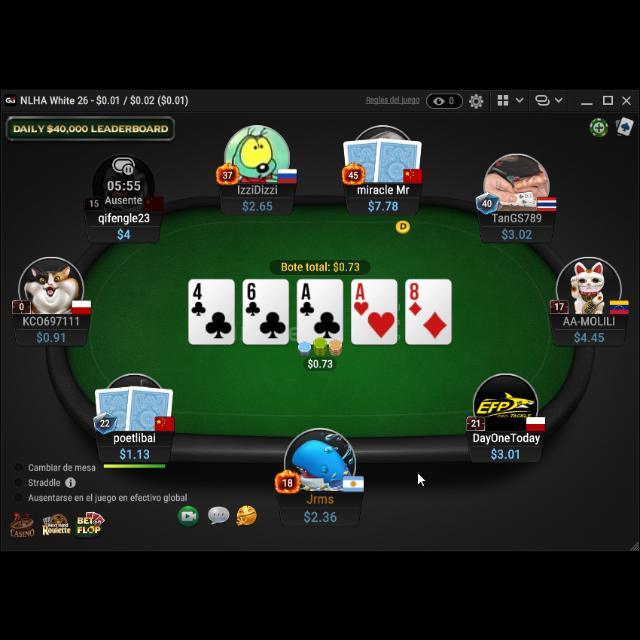4c: (192, 281, 208, 317)
6c: (246, 281, 260, 317)
8d: (408, 280, 422, 316)
Ac: (298, 280, 316, 318)
Ah: (352, 280, 370, 318)
bet_text: (306, 356, 334, 368)
card_back: (124, 382, 174, 432), (373, 134, 423, 182), (343, 136, 385, 182), (94, 384, 134, 431)
dealer: (394, 217, 412, 233)
pot_text: (280, 259, 362, 271)
stack_text: (302, 507, 338, 523), (501, 224, 534, 240), (118, 444, 150, 460), (572, 328, 606, 342), (366, 197, 399, 211), (35, 328, 67, 342), (490, 445, 522, 459), (242, 198, 274, 210), (115, 226, 132, 238)
